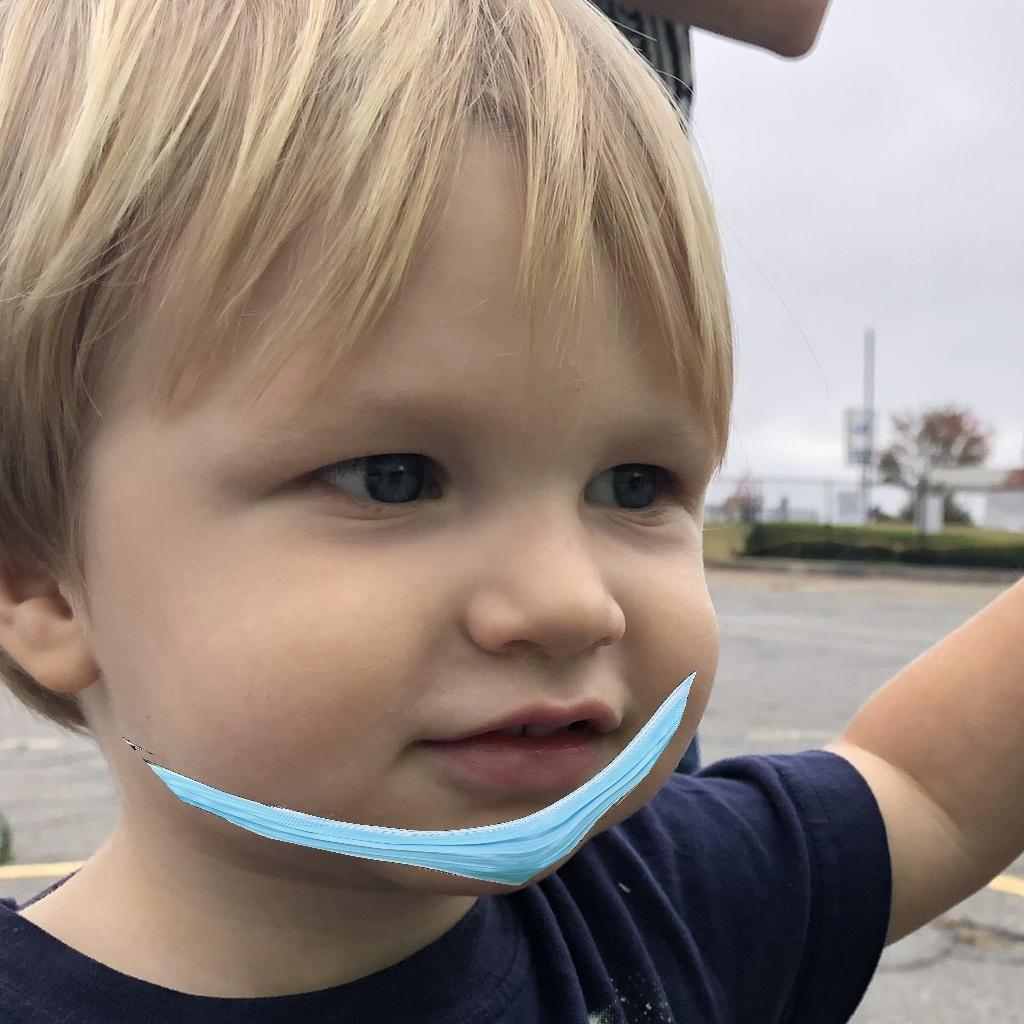Máscara Incorreta: (155, 323, 731, 907)
